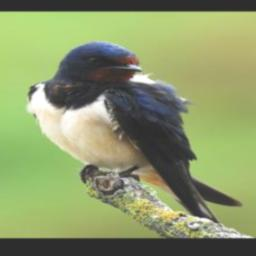Swallow: (25, 40, 245, 226)
